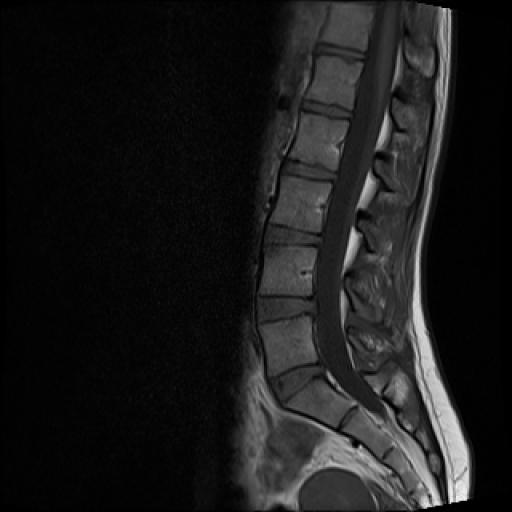L1: (306, 57, 361, 110)
L2: (288, 112, 349, 170)
L3: (269, 175, 332, 232)
L4: (259, 247, 317, 296)
L5: (258, 316, 318, 376)
S1: (285, 378, 352, 428)
